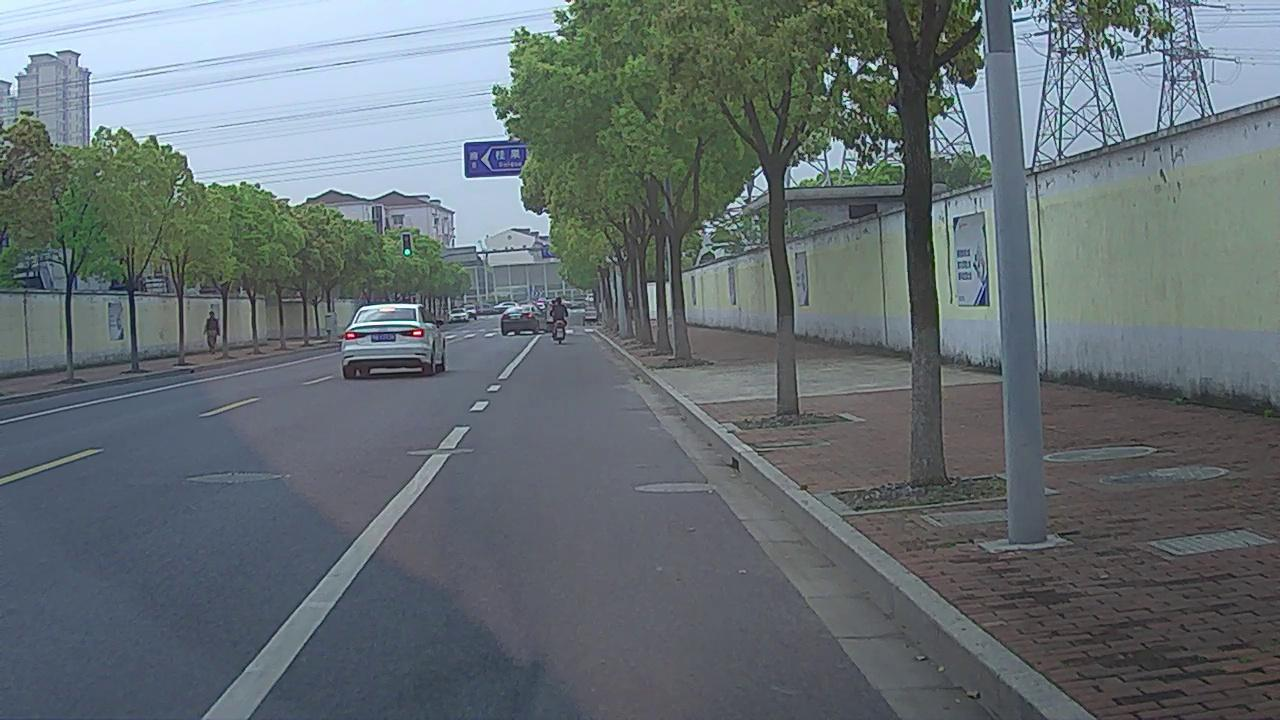traffic_light: (400, 235, 410, 256)
